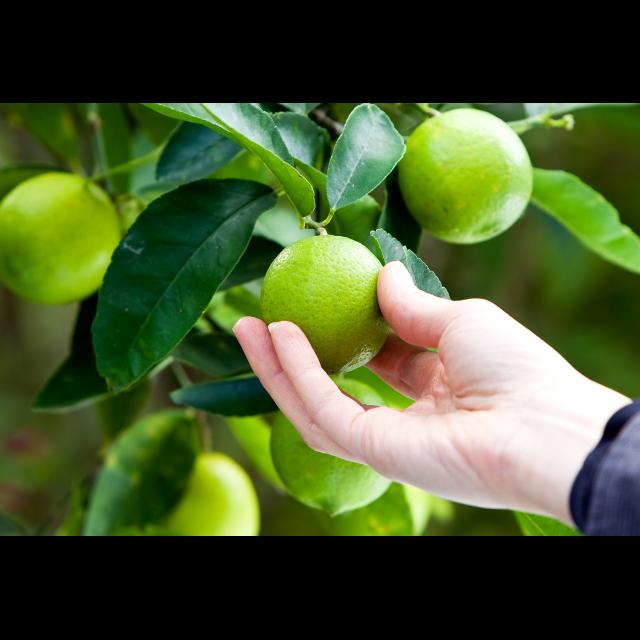lime: (394, 110, 534, 248), (262, 236, 392, 382), (0, 174, 124, 308), (156, 452, 262, 536)
